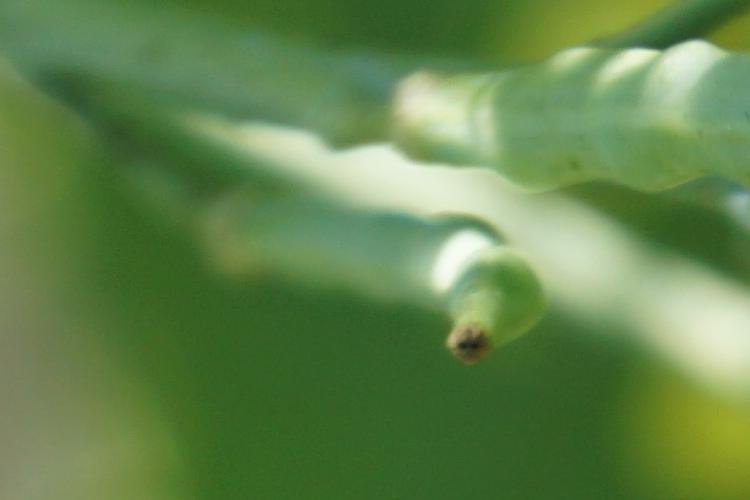pod: (184, 164, 580, 381)
